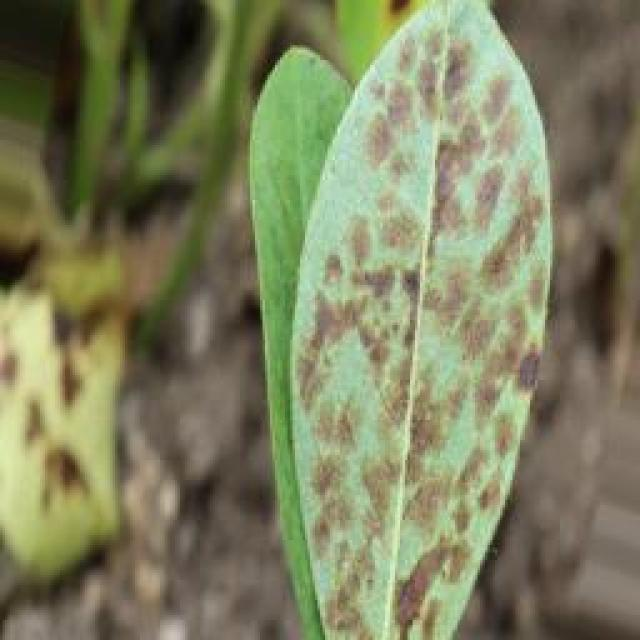Whitefly: (238, 0, 578, 629)
